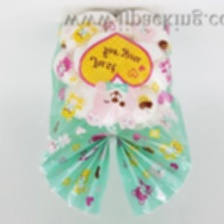snack: (31, 2, 198, 224)
